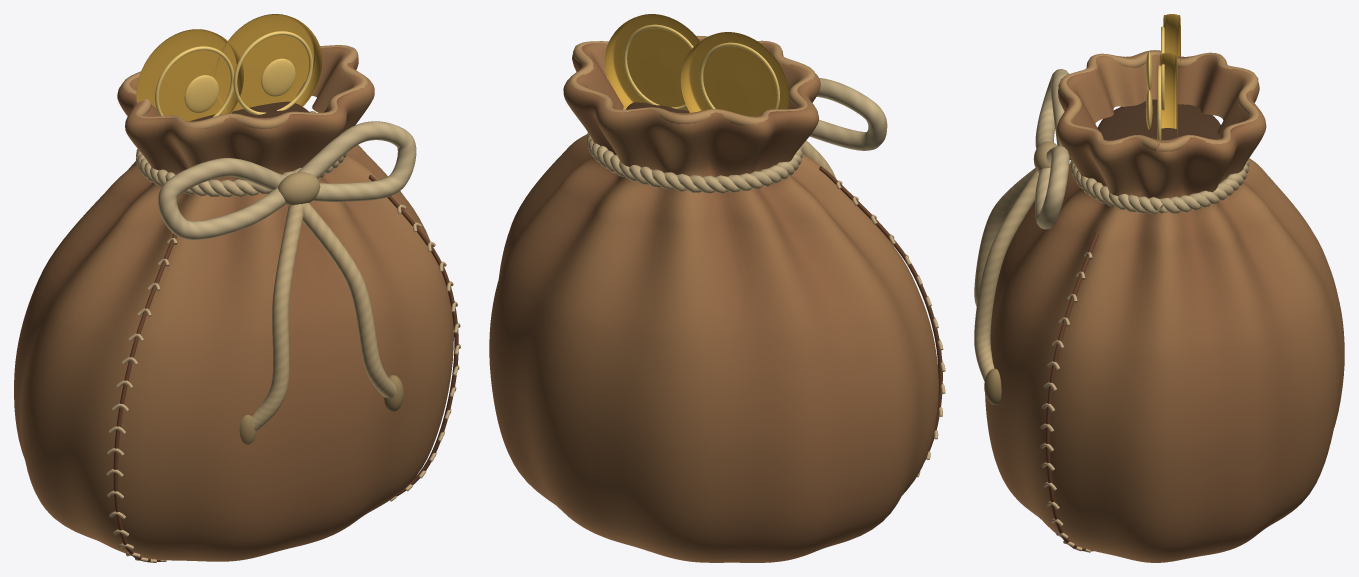
The model's file is Lost_Purse.glb.
The picture shows the model from 3 angles, left to right: view 1: azimuth 30°, elevation 25°; view 2: azimuth 150°, elevation 25°; view 3: azimuth 270°, elevation 25°; orthographic projection. The views are drawn at different scales.
Visible parts, largest first — view 1: Lost_Purse; view 2: Lost_Purse; view 3: Lost_Purse.
Part boxes in pixels (x1=…): Lost_Purse: x1=14, y1=14, x2=460, y2=562; Lost_Purse: x1=489, y1=14, x2=945, y2=562; Lost_Purse: x1=974, y1=14, x2=1344, y2=562.
Bounding box in the file's own units: 0.9377 × 1.09 × 0.7641.
